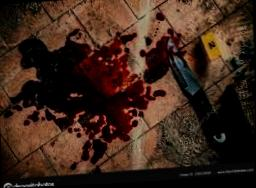Fire: (12, 29, 187, 165), (156, 14, 165, 22), (94, 167, 102, 175), (146, 38, 153, 47), (5, 111, 13, 118), (14, 105, 23, 111), (71, 164, 78, 171)
